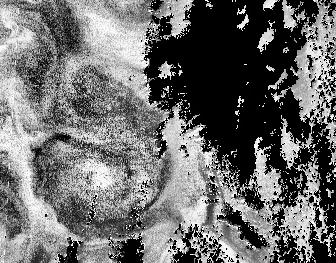AE: (13, 127, 166, 250)
